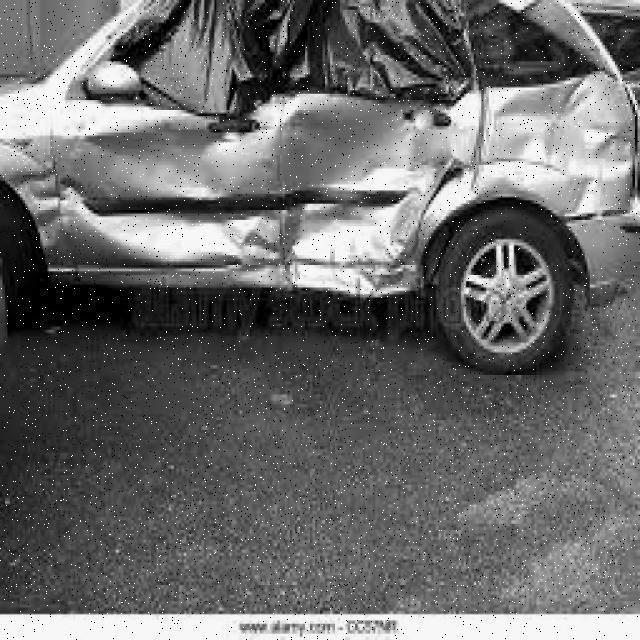car damage: (4, 2, 632, 293)
